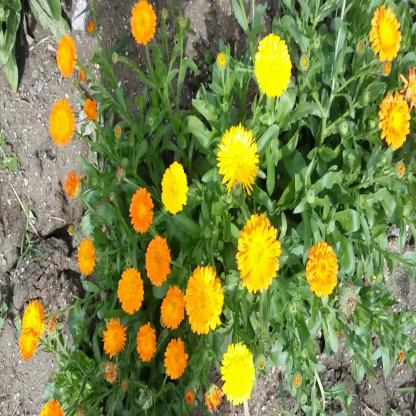marigold: (237, 214, 280, 294), (218, 122, 260, 191), (185, 266, 224, 335), (256, 33, 289, 101), (219, 342, 255, 402), (306, 242, 337, 297), (370, 7, 401, 60), (380, 94, 408, 144), (162, 162, 187, 214), (146, 236, 171, 286), (117, 271, 143, 316), (49, 96, 72, 143), (130, 188, 152, 235), (162, 340, 186, 379), (162, 286, 183, 330), (131, 1, 154, 40), (54, 35, 76, 75), (136, 322, 156, 363), (103, 319, 127, 353), (21, 302, 42, 336), (77, 242, 94, 276), (20, 328, 37, 353)
